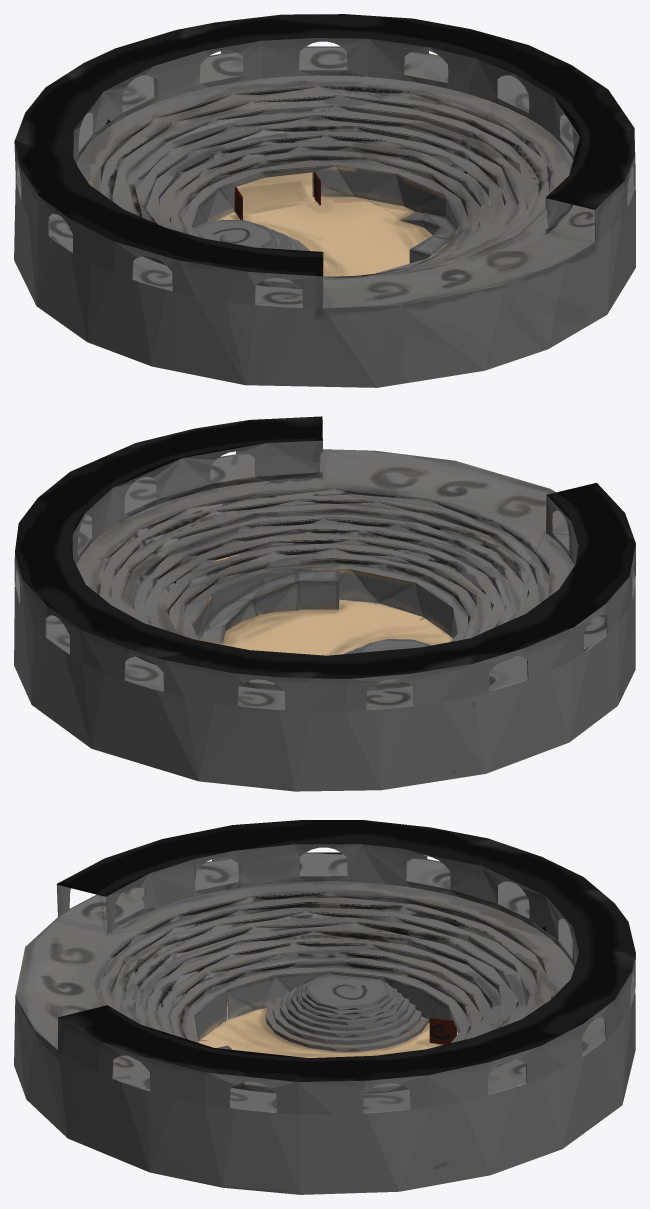
File: stadium.fbx
3 views of the same model, one above another, from view 1: azimuth 30°, elevation 25°; view 2: azimuth 150°, elevation 25°; view 3: azimuth 270°, elevation 25° (orthographic).
Visible parts, largest first — view 1: stadium; view 2: stadium; view 3: stadium.
Part boxes in pixels (x1,y1,x2,y2): stadium: (14,14,635,387); stadium: (14,416,635,791); stadium: (14,820,635,1194).
Bounding box in the file's own units: 61214 × 12506 × 61322.
2 materials, 2 textured.
